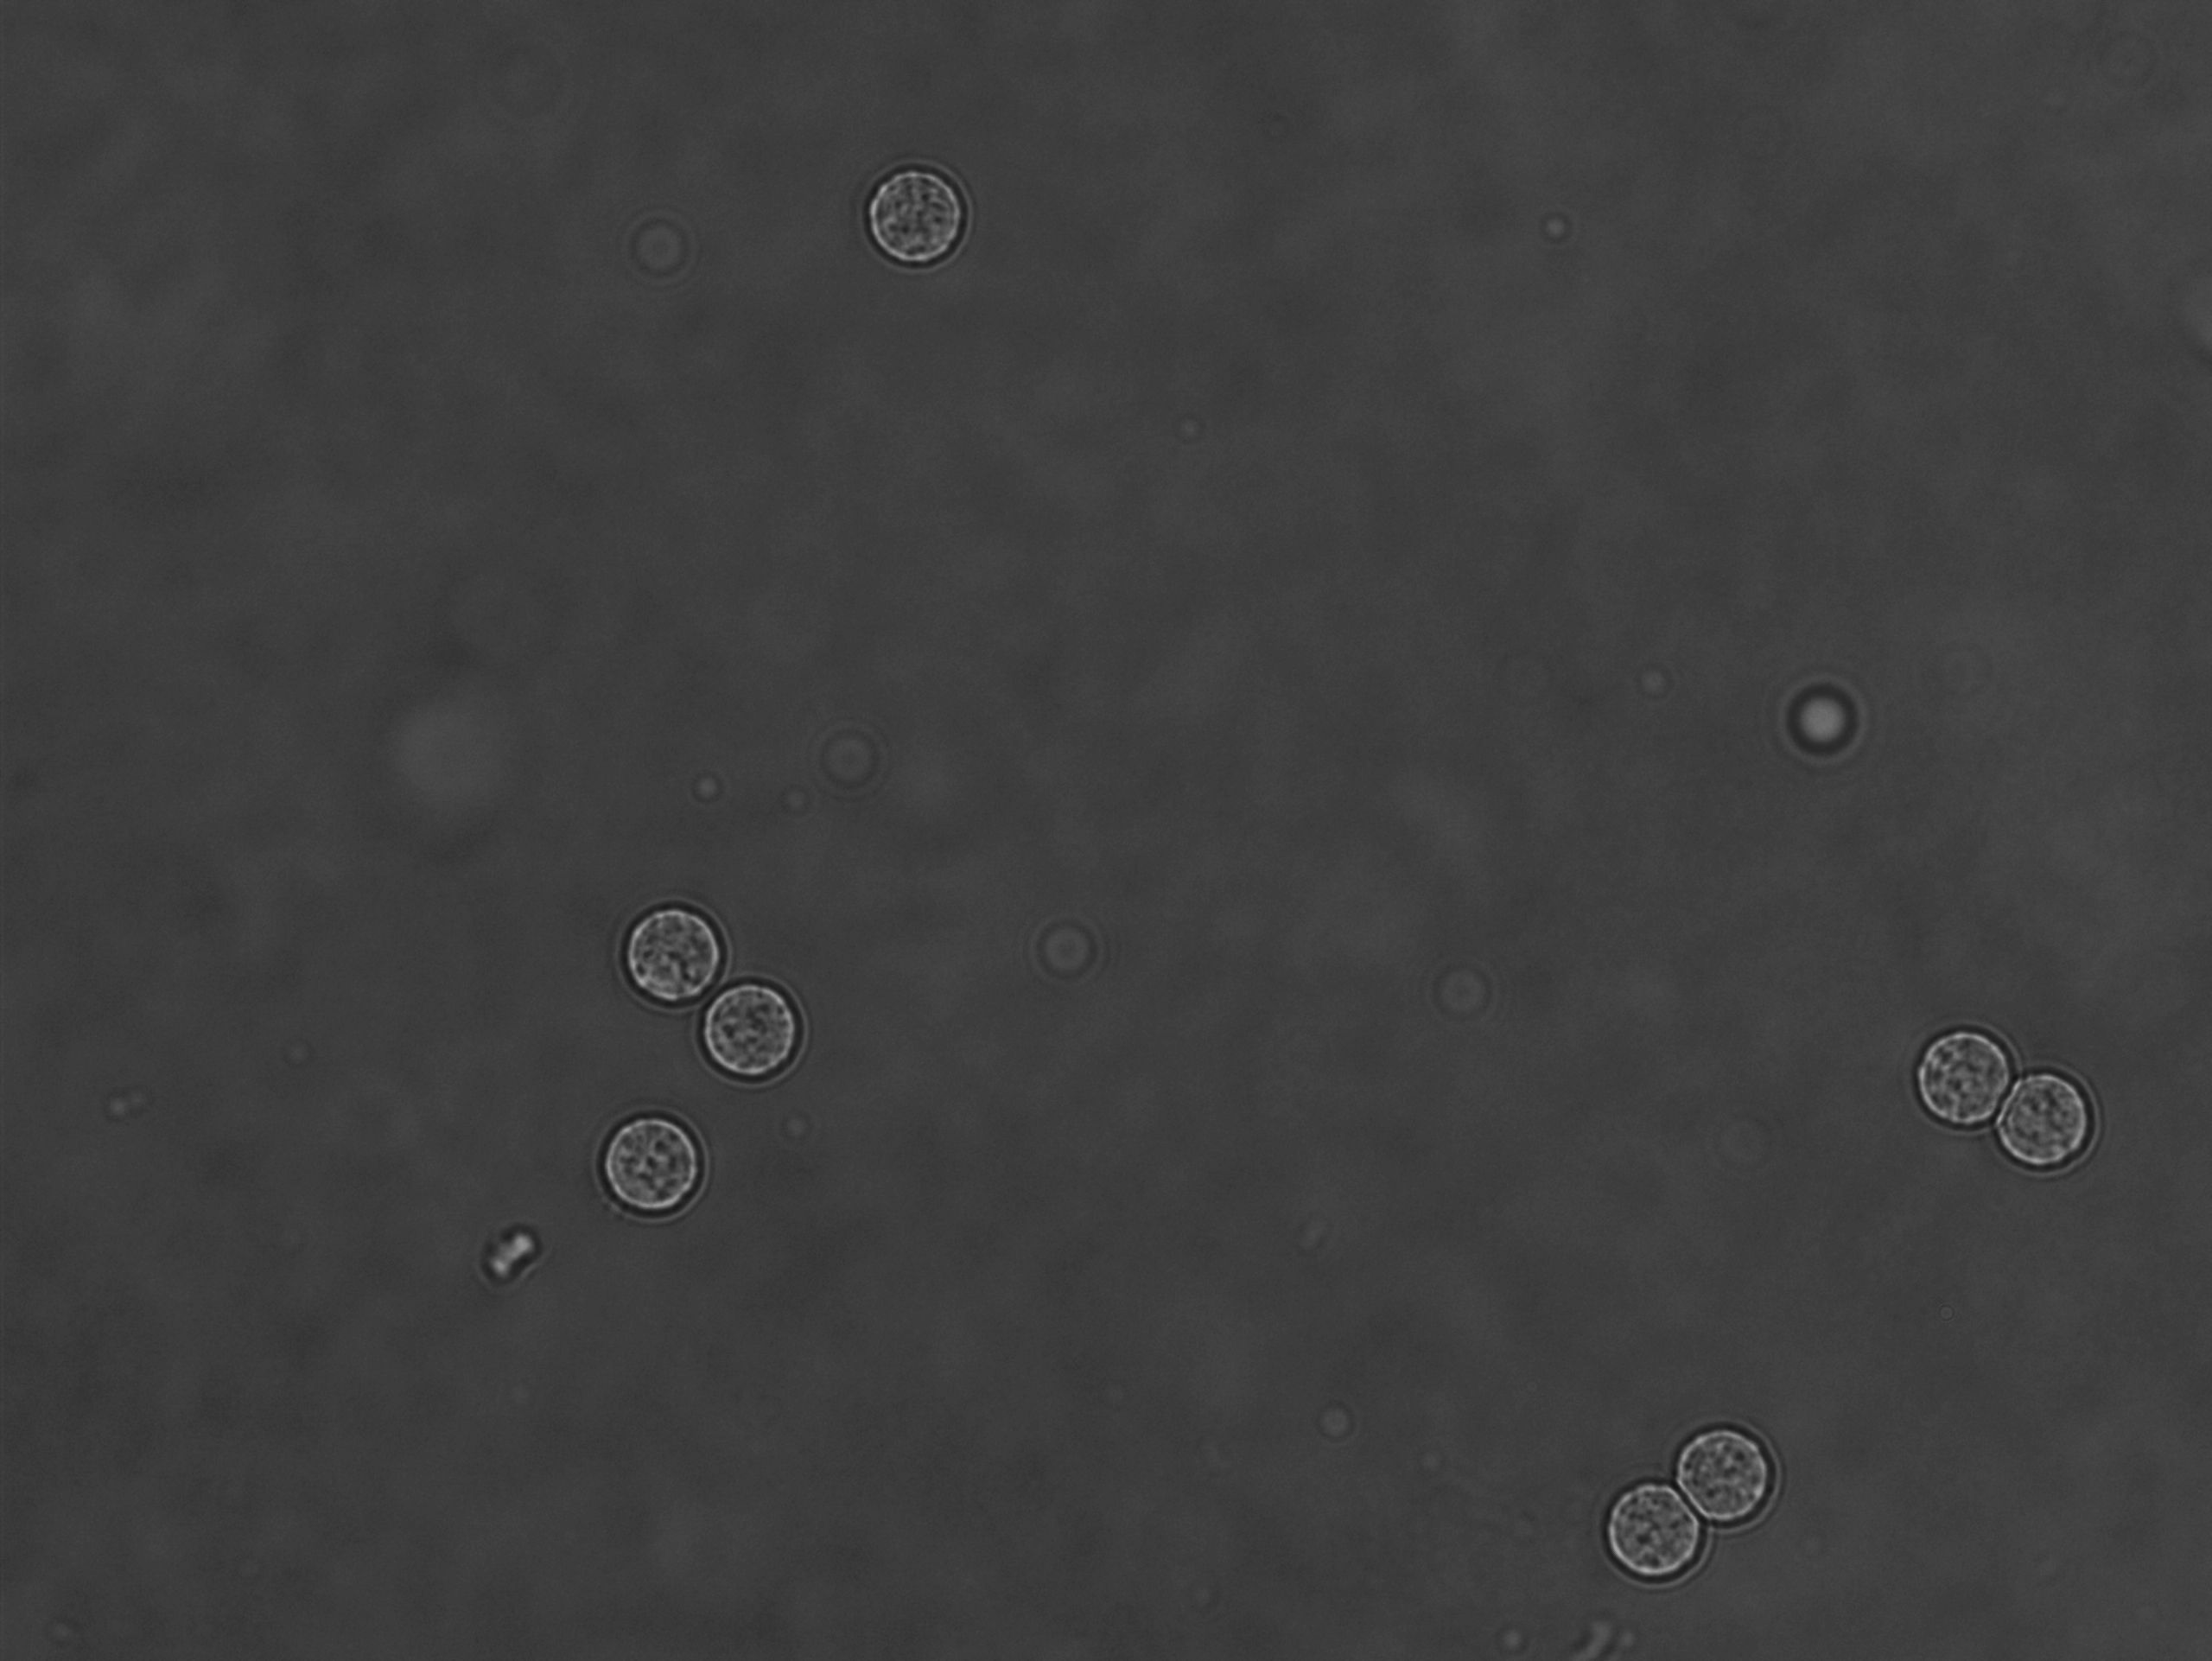depth:0: (1584, 1450, 1711, 1591), (1983, 1063, 2116, 1192), (577, 1099, 715, 1214), (614, 871, 727, 1010), (1905, 1003, 2025, 1132), (1668, 1401, 1774, 1539), (865, 159, 973, 269), (694, 979, 809, 1082)
